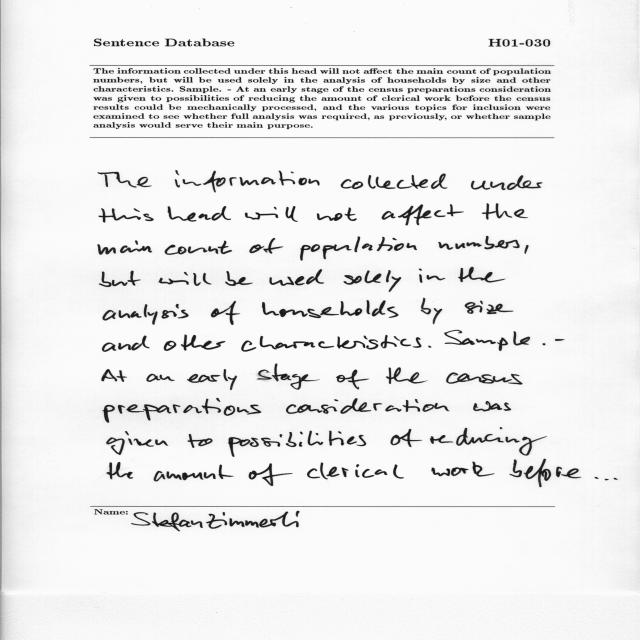word: (103, 398, 261, 423), (228, 431, 366, 457), (430, 427, 547, 456), (175, 171, 320, 193), (241, 335, 422, 352), (300, 236, 417, 261), (286, 398, 450, 414), (262, 300, 398, 318), (510, 459, 582, 487), (103, 304, 189, 325), (444, 330, 530, 351), (382, 204, 464, 226), (307, 463, 404, 480), (257, 364, 320, 390), (341, 174, 448, 189), (107, 431, 168, 455), (154, 465, 234, 482), (344, 270, 402, 292), (438, 236, 520, 250), (471, 175, 542, 190), (164, 334, 226, 351), (187, 369, 237, 390), (168, 206, 232, 222), (249, 463, 293, 486), (431, 462, 495, 477), (165, 241, 232, 255), (446, 373, 523, 385), (270, 269, 324, 286), (245, 206, 298, 222), (99, 208, 154, 223), (98, 172, 152, 187), (98, 240, 152, 255), (103, 335, 150, 352), (459, 267, 506, 283), (159, 272, 212, 286), (482, 204, 528, 220), (386, 367, 427, 384), (211, 301, 240, 325), (99, 271, 141, 287), (336, 370, 369, 390), (465, 301, 513, 314), (390, 429, 422, 447), (317, 207, 357, 221), (421, 298, 442, 324), (250, 238, 284, 254), (107, 462, 133, 479), (225, 271, 253, 286), (419, 268, 445, 283), (473, 401, 511, 411), (188, 434, 213, 448), (102, 369, 127, 382), (146, 374, 175, 382), (595, 477, 618, 480), (525, 245, 529, 254), (555, 339, 564, 341), (429, 346, 432, 348), (543, 343, 546, 345)
